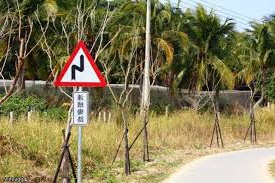Double_bend_right: (52, 40, 108, 88)
